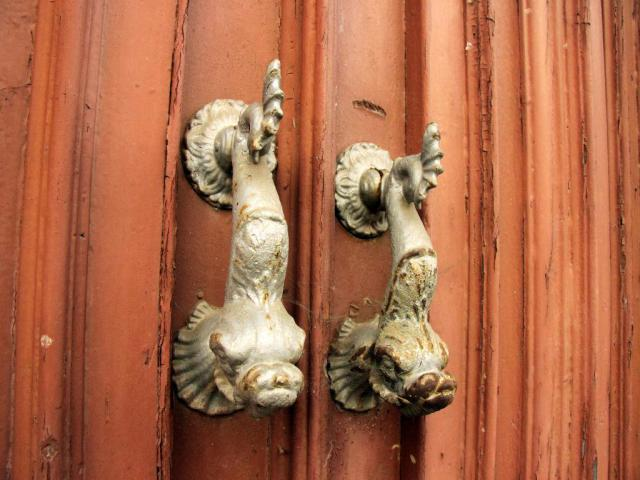Door-handle: (170, 57, 306, 418), (326, 122, 459, 420)
